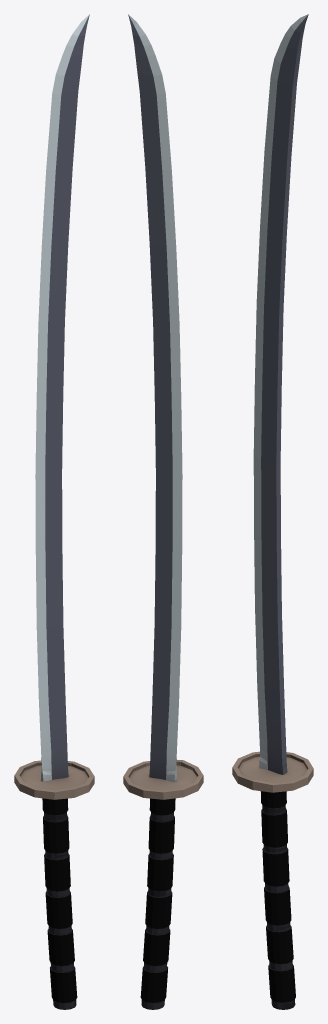
File: katana.fbx
3 renders of one model, left to right at view 1: azimuth 30°, elevation 25°; view 2: azimuth 150°, elevation 25°; view 3: azimuth 330°, elevation 25°, orthographic.
Visible parts, largest first — view 1: Cylinder.001; view 2: Cylinder.001; view 3: Cylinder.001.
Boxes of the visible parts, x1,y1,x2,y2 form: Cylinder.001: (14, 14, 94, 1009); Cylinder.001: (123, 14, 203, 1009); Cylinder.001: (232, 14, 313, 1009).
Size of the model in its own units: 42.96 by 576 by 42.49.
1 material, 1 textured.
